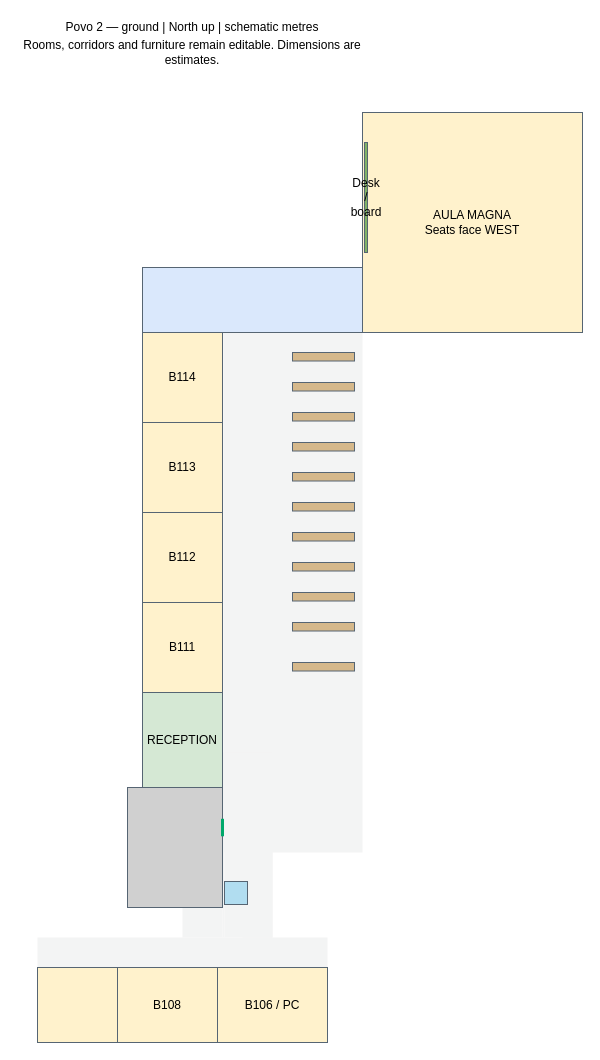
This 600x1060 diagram has some shape labels left out. Each missing label, with the centre of its shape:
Aula lobby: (252,299)
B109: (77,1004)
Ladder: (236,892)
STAIRS: (174,847)
